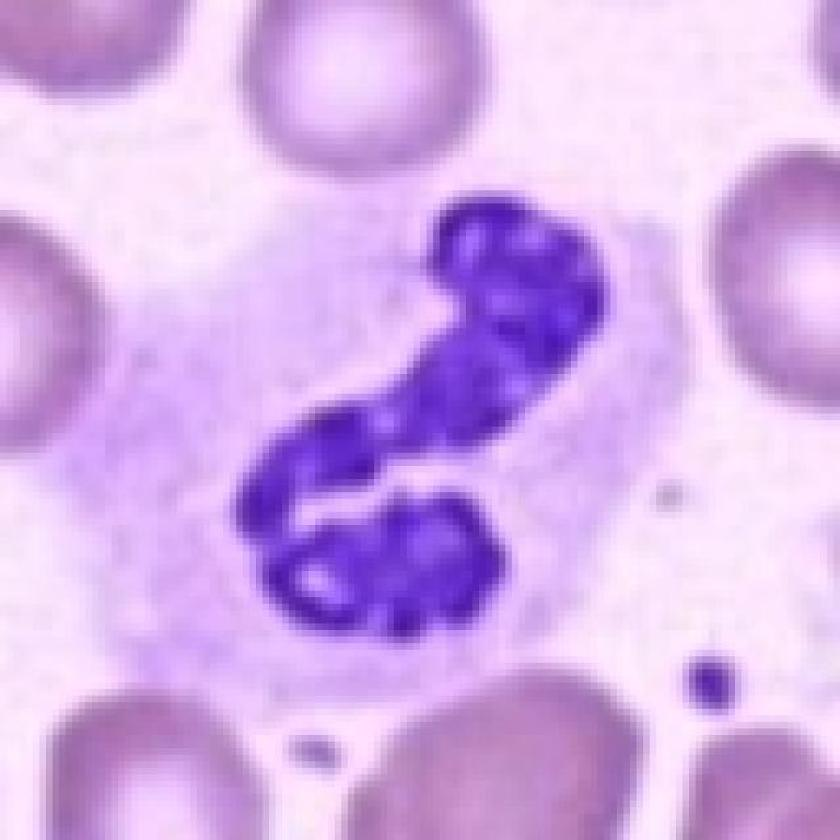neutrophil: (54, 173, 695, 745)
